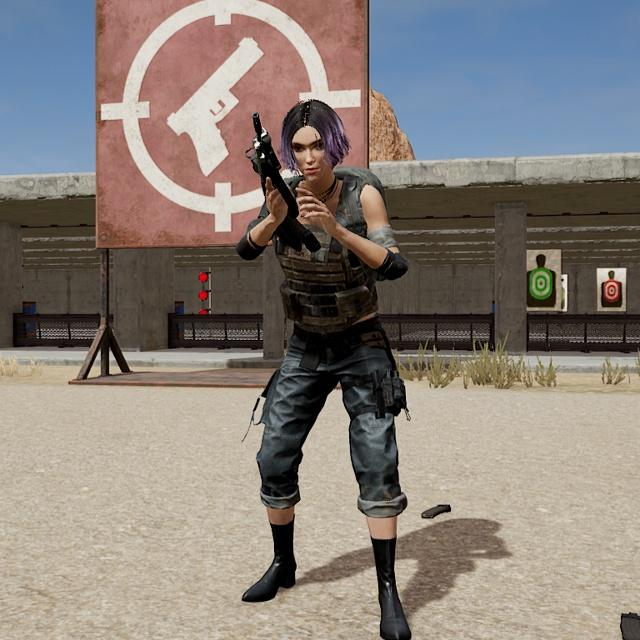head: (275, 94, 351, 186)
people: (228, 89, 437, 640)
